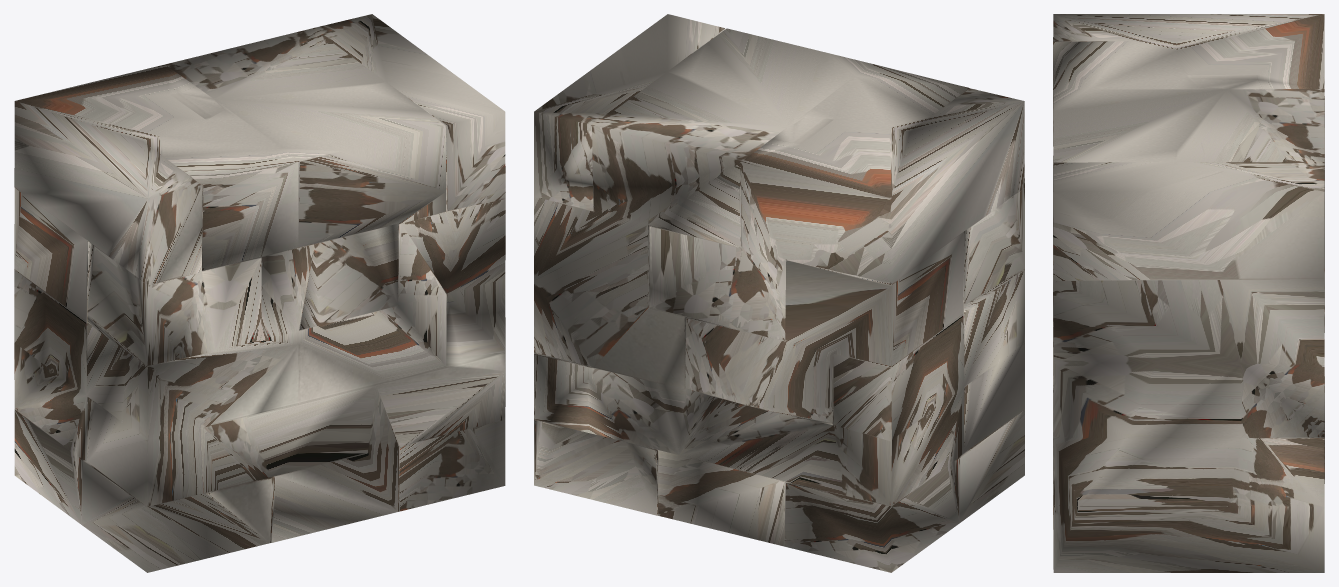
File: walkseg.glb
The picture shows the model from 3 angles, left to right: view 1: azimuth 30°, elevation 25°; view 2: azimuth 150°, elevation 25°; view 3: azimuth 270°, elevation 25°; orthographic projection.
Size of the model in its own units: 1.9 by 1.9 by 1.23.
Materials: 1 (1 with a texture image).
